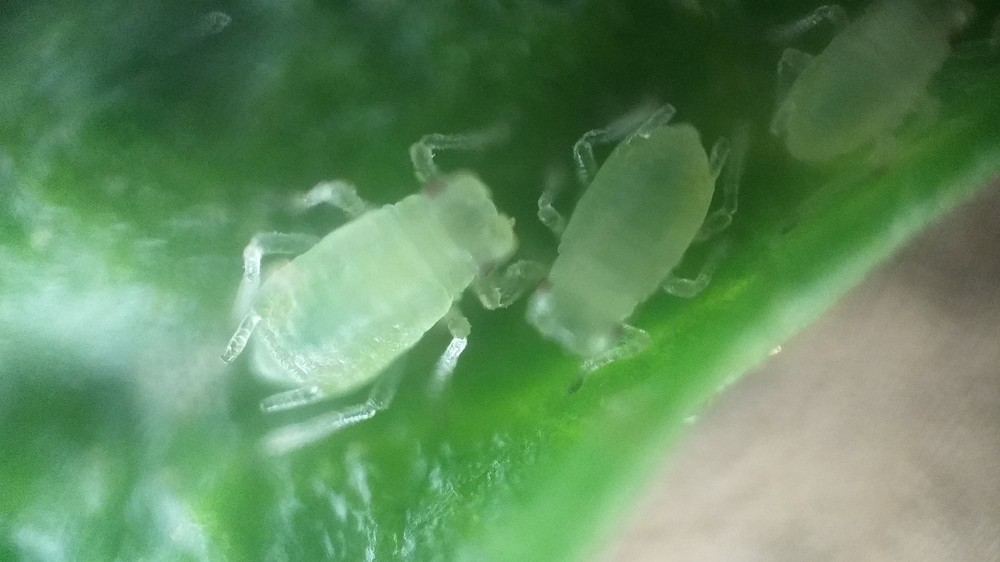Pulgon: (201, 115, 534, 448), (519, 93, 756, 393), (752, 3, 992, 193)
